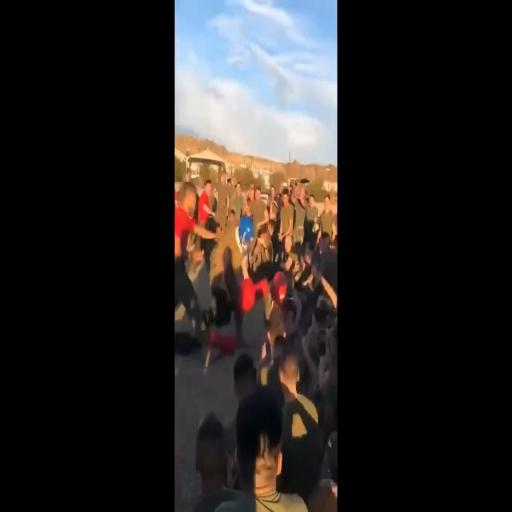violencia: (200, 191, 302, 395)
